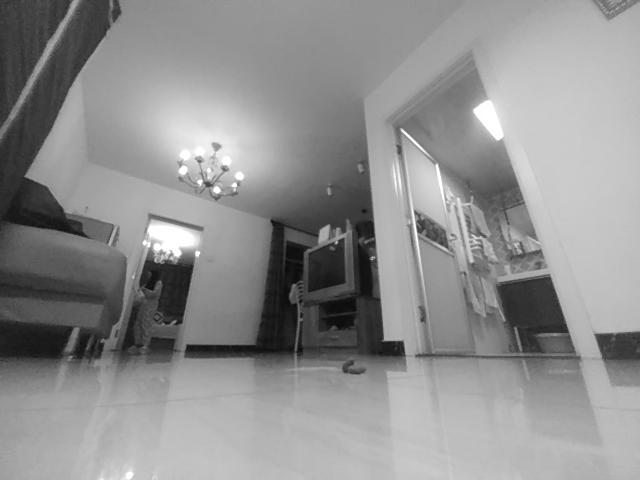curtain: (256, 219, 291, 352)
pet feces: (341, 356, 367, 376)
